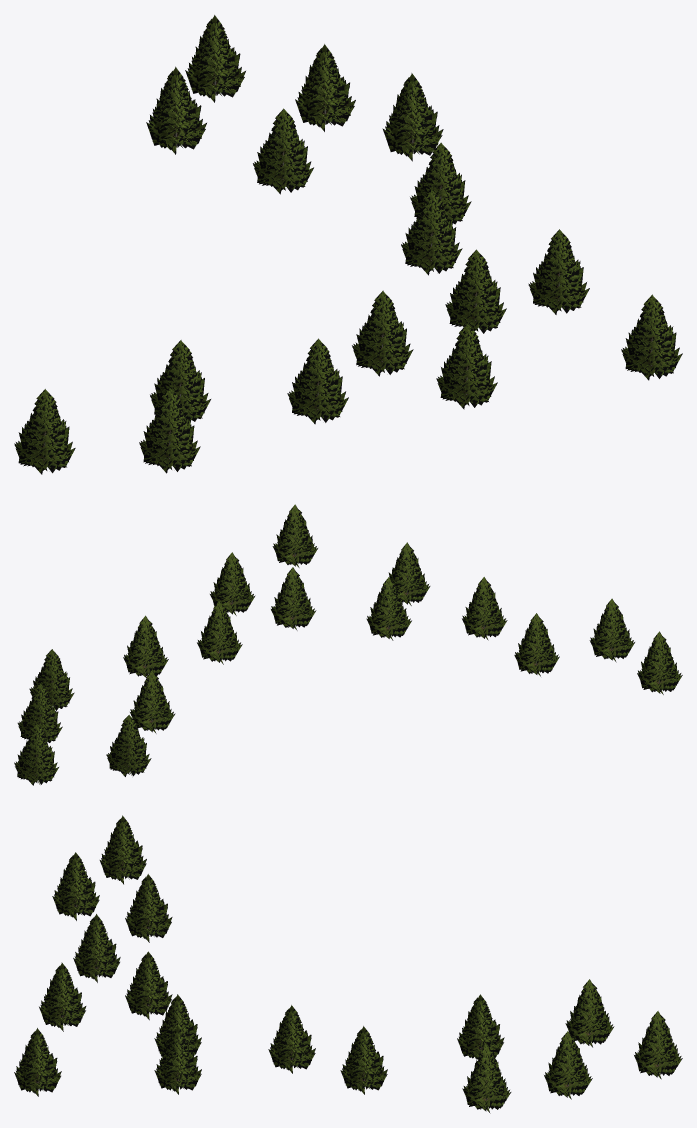
Rendered from trees.fbx.
3 views of the same model, one above another, from view 1: azimuth 30°, elevation 25°; view 2: azimuth 150°, elevation 25°; view 3: azimuth 270°, elevation 25° (orthographic). The views are drawn at different scales.
Visible parts, largest first — view 1: g1.010; view 2: g1.010; view 3: g1.010.
Boxes of the visible parts, x1,y1,x2,y2 form: g1.010: (14, 15, 682, 474); g1.010: (14, 504, 682, 785); g1.010: (14, 815, 682, 1113).
Bounding box in the file's own units: 2420 × 291 × 2735.
